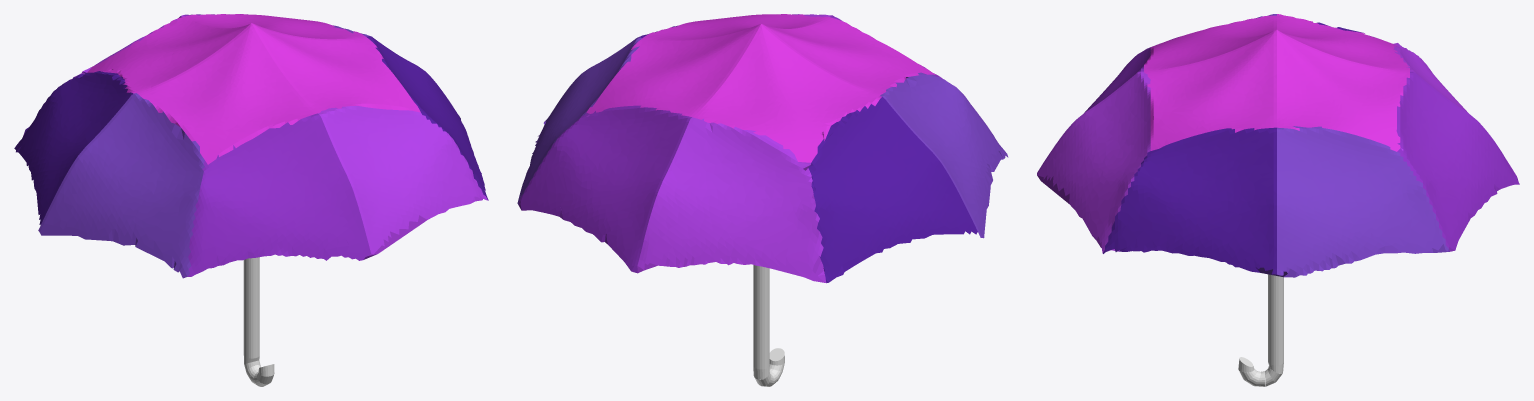
3 renders of one model, left to right at view 1: azimuth 30°, elevation 25°; view 2: azimuth 150°, elevation 25°; view 3: azimuth 270°, elevation 25°, orthographic. The views are drawn at different scales.
Parts seen in each view (by area): view 1: 平面.001, 円柱; view 2: 平面.001, 円柱; view 3: 平面.001, 円柱.
Boxes of the visible parts, bbox=[...] form: 平面.001: bbox=[14, 14, 488, 278]; 円柱: bbox=[243, 257, 274, 386]; 平面.001: bbox=[517, 14, 1008, 283]; 円柱: bbox=[753, 265, 784, 386]; 平面.001: bbox=[1037, 14, 1519, 277]; 円柱: bbox=[1238, 274, 1283, 386].
Size of the model in its own units: 1.82 by 1.47 by 1.81.
1 material, 1 textured.
